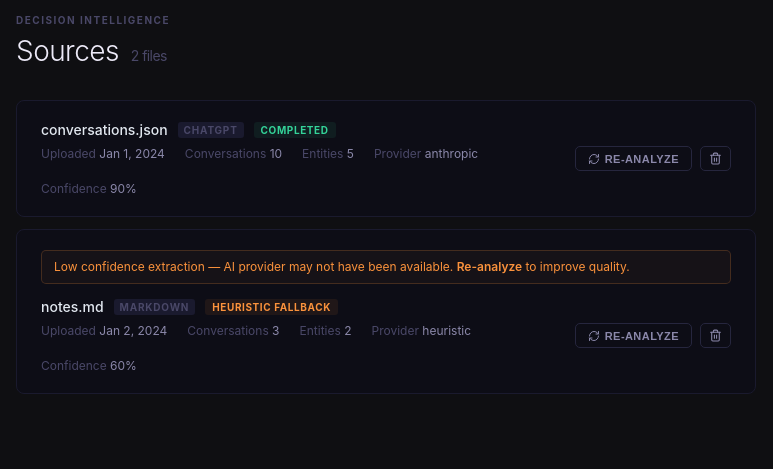
Test: SourcesPage › shows error when delete fails
Expected: the text "conversations.json" is shown, [41,121,168,138]
Open inline confirmation then confirm
Click the button titled "Delete source and all entities" in the row of "anthropic".
click(716, 158)  # box [700,146,731,171]
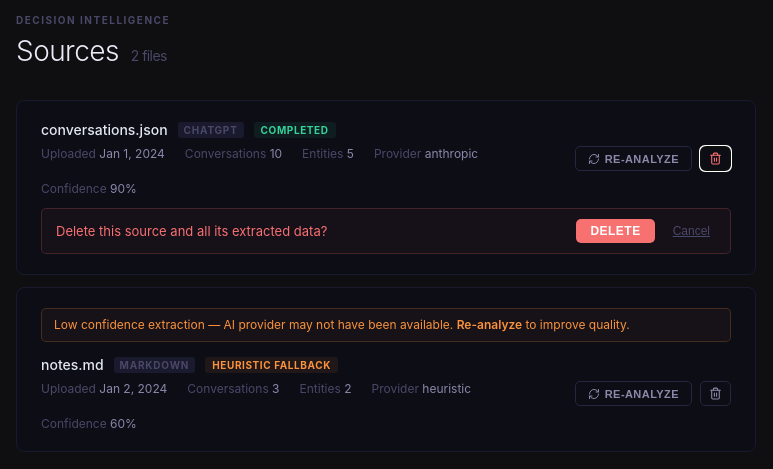
Click the button "Delete".
click(616, 231)  # box [576,219,655,243]
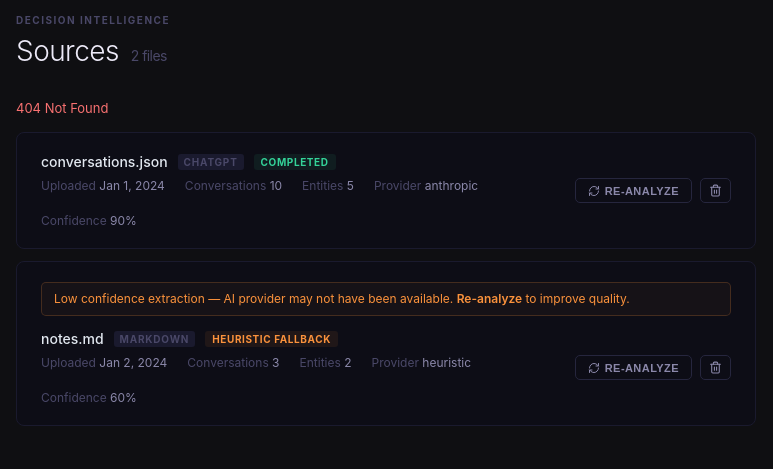
Expected: the text "conversations.json" is shown, [41,153,168,170]
Now the text "404 Not Found" is shown, box [16,100,108,116]
